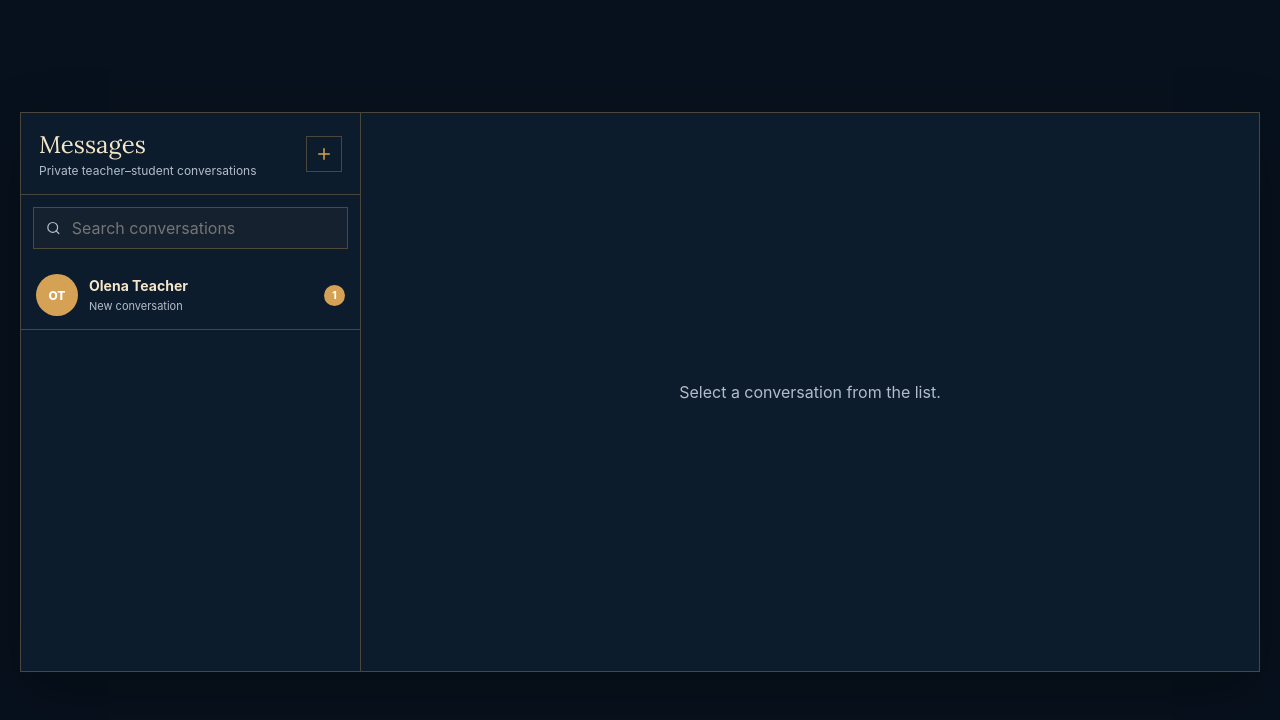
Test: chat workspace › opens a conversation, marks it read and sends a message
This screenshot has width=1280, height=720.
Later steps or results of the test are not shown.
Click the button "OT Olena Teacher New conversation 1". click: [190, 296]
box: 21,261 -> 360,330
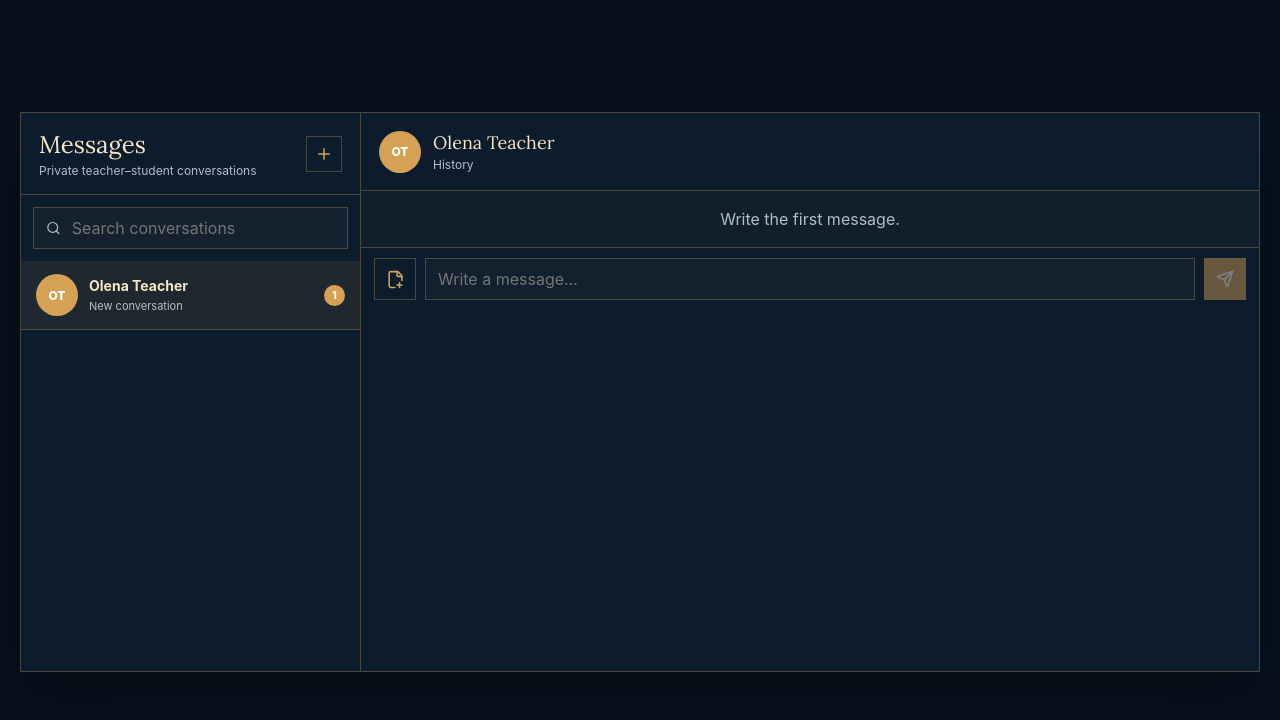
Expected: the text box with placeholder "Write a message…" is shown, 425,258 -> 1195,300
